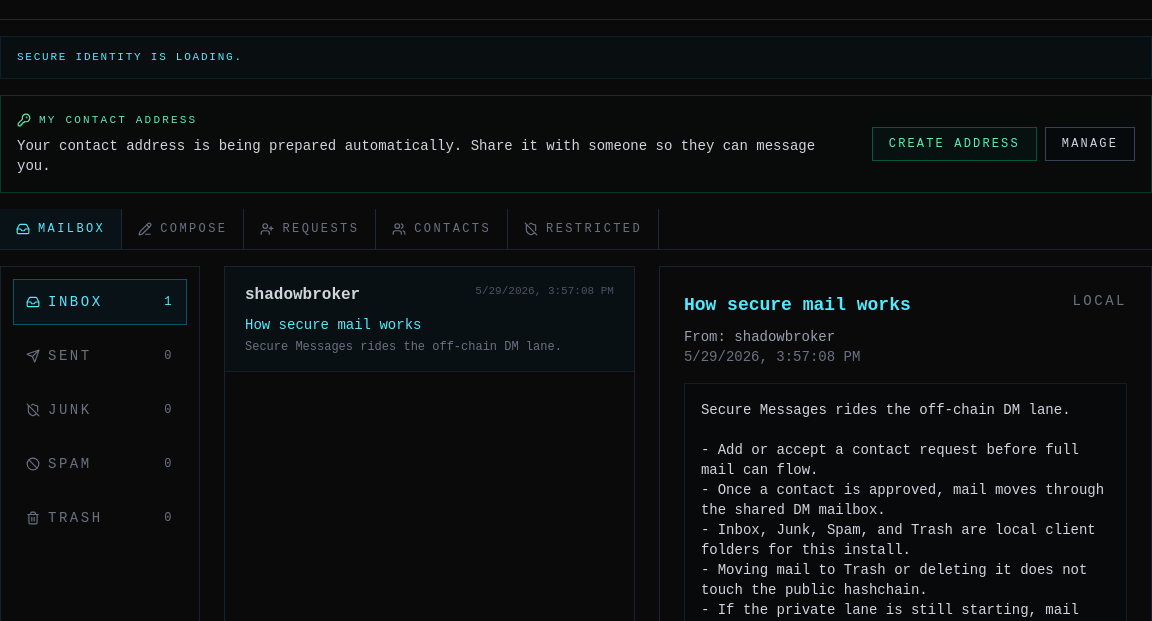
Test case: MessagesView first-contact trust UX › sends a contact request from a short address instead of requiring JSON
Click the button "CONTACTS": (442, 229) [376,209,508,249]
(page scrolled)
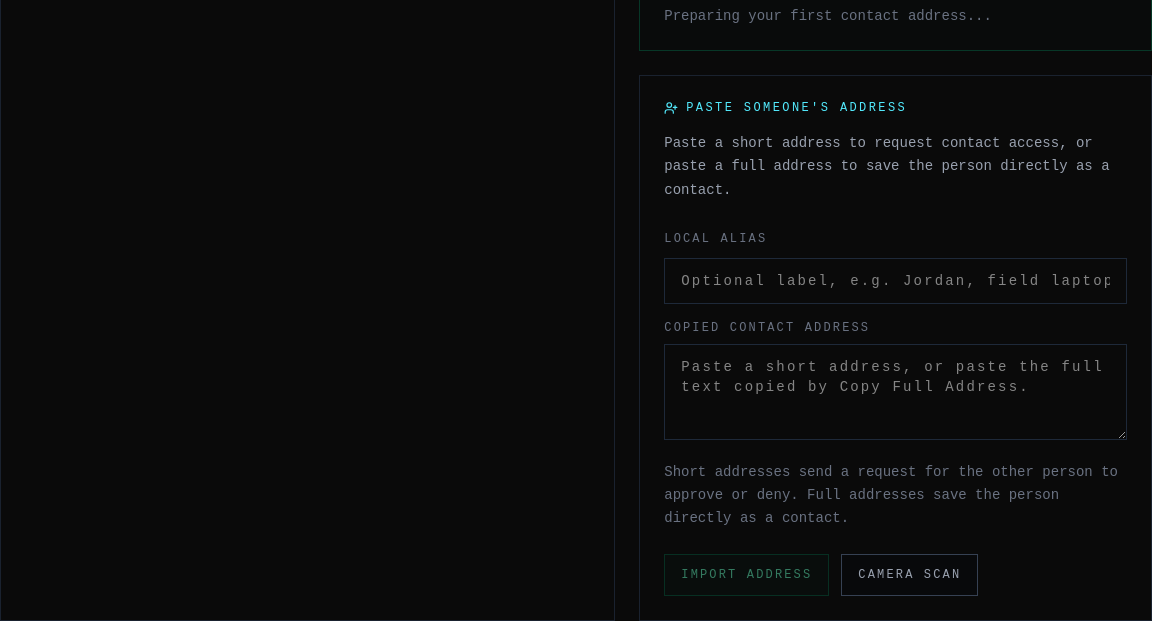
Check: the text "Paste Someone's Address" is shown, box [664,101,907,115]
Replace the text in the text box with placeholder "Paste a short address" with "f0eee9e9ccf849bcb2d86c0d7a1e0669c75be4e05533b0f6c67": (896, 392) [664,344,1127,440]
(page scrolled)
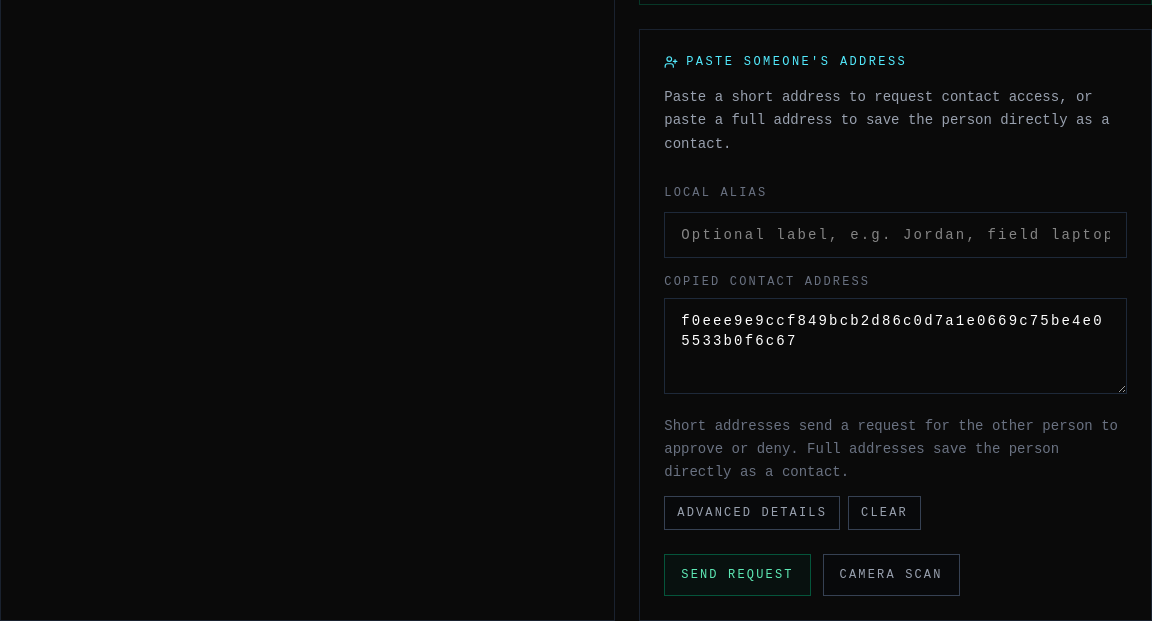
Click the button "Send Request": (737, 575) [664,554,811,596]
(page scrolled)
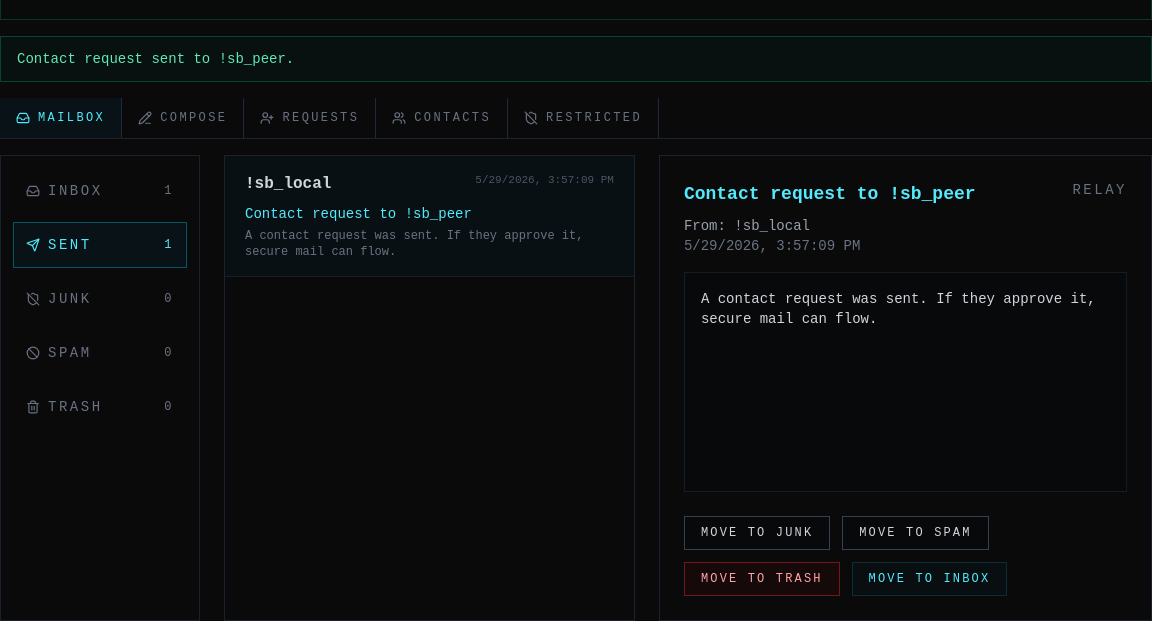
Check: the text "Contact request sent to !sb_peer." is shown, box [0,36,1151,82]
